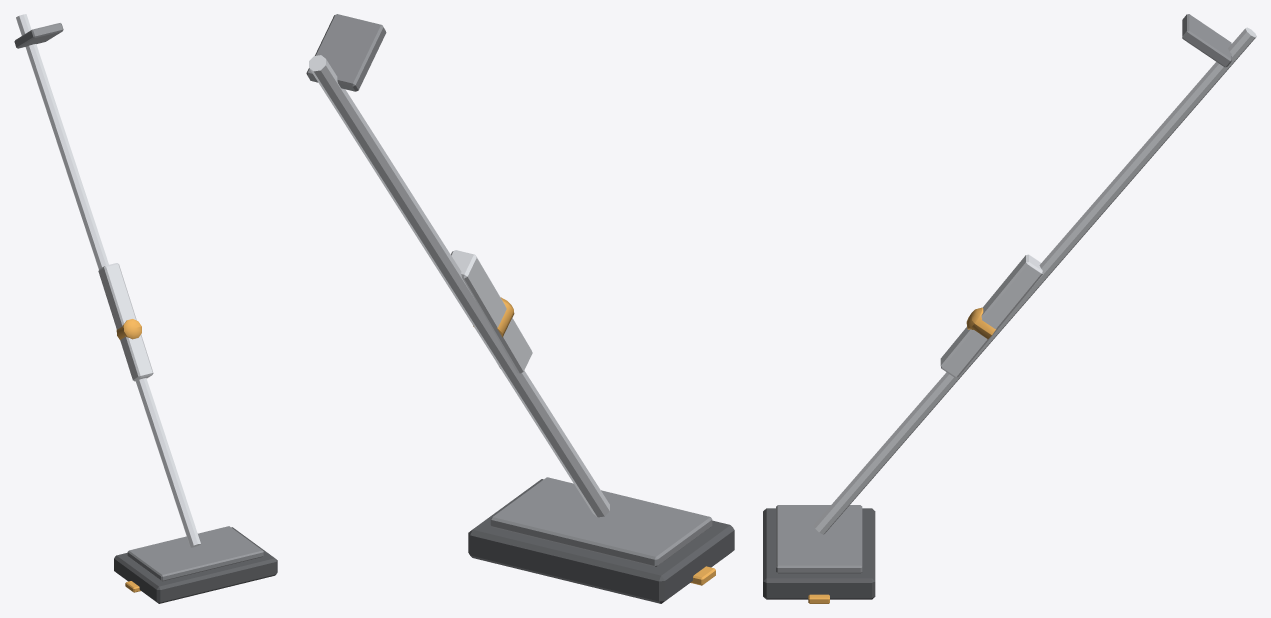
The model's file is 35493_Scenery_Brace_and_Stage_Weight__TV_Studio_and_Broadcast_Gallery_.glb.
3 renders of one model, left to right at view 1: azimuth 30°, elevation 25°; view 2: azimuth 150°, elevation 25°; view 3: azimuth 270°, elevation 25°, orthographic. The views are drawn at different scales.
Parts seen in each view (by area): view 1: scenery-brace-and-weight_2, scenery-brace-and-weight_1, scenery-brace-and-weight_0, scenery-brace-and-weight_3; view 2: scenery-brace-and-weight_1, scenery-brace-and-weight_2, scenery-brace-and-weight_0, scenery-brace-and-weight_3; view 3: scenery-brace-and-weight_2, scenery-brace-and-weight_1, scenery-brace-and-weight_0, scenery-brace-and-weight_3.
Boxes of the visible parts, x1,y1,x2,y2 form: scenery-brace-and-weight_2: [16, 14, 200, 547]; scenery-brace-and-weight_1: [14, 23, 263, 581]; scenery-brace-and-weight_0: [114, 527, 277, 603]; scenery-brace-and-weight_3: [116, 319, 141, 592]; scenery-brace-and-weight_1: [306, 14, 712, 566]; scenery-brace-and-weight_2: [309, 55, 609, 517]; scenery-brace-and-weight_0: [468, 479, 734, 603]; scenery-brace-and-weight_3: [473, 297, 715, 585]; scenery-brace-and-weight_2: [813, 27, 1256, 534]; scenery-brace-and-weight_1: [776, 14, 1231, 573]; scenery-brace-and-weight_0: [763, 508, 875, 599]; scenery-brace-and-weight_3: [808, 307, 995, 603].
Size of the model in its own units: 0.44 by 1.39 by 1.14.
